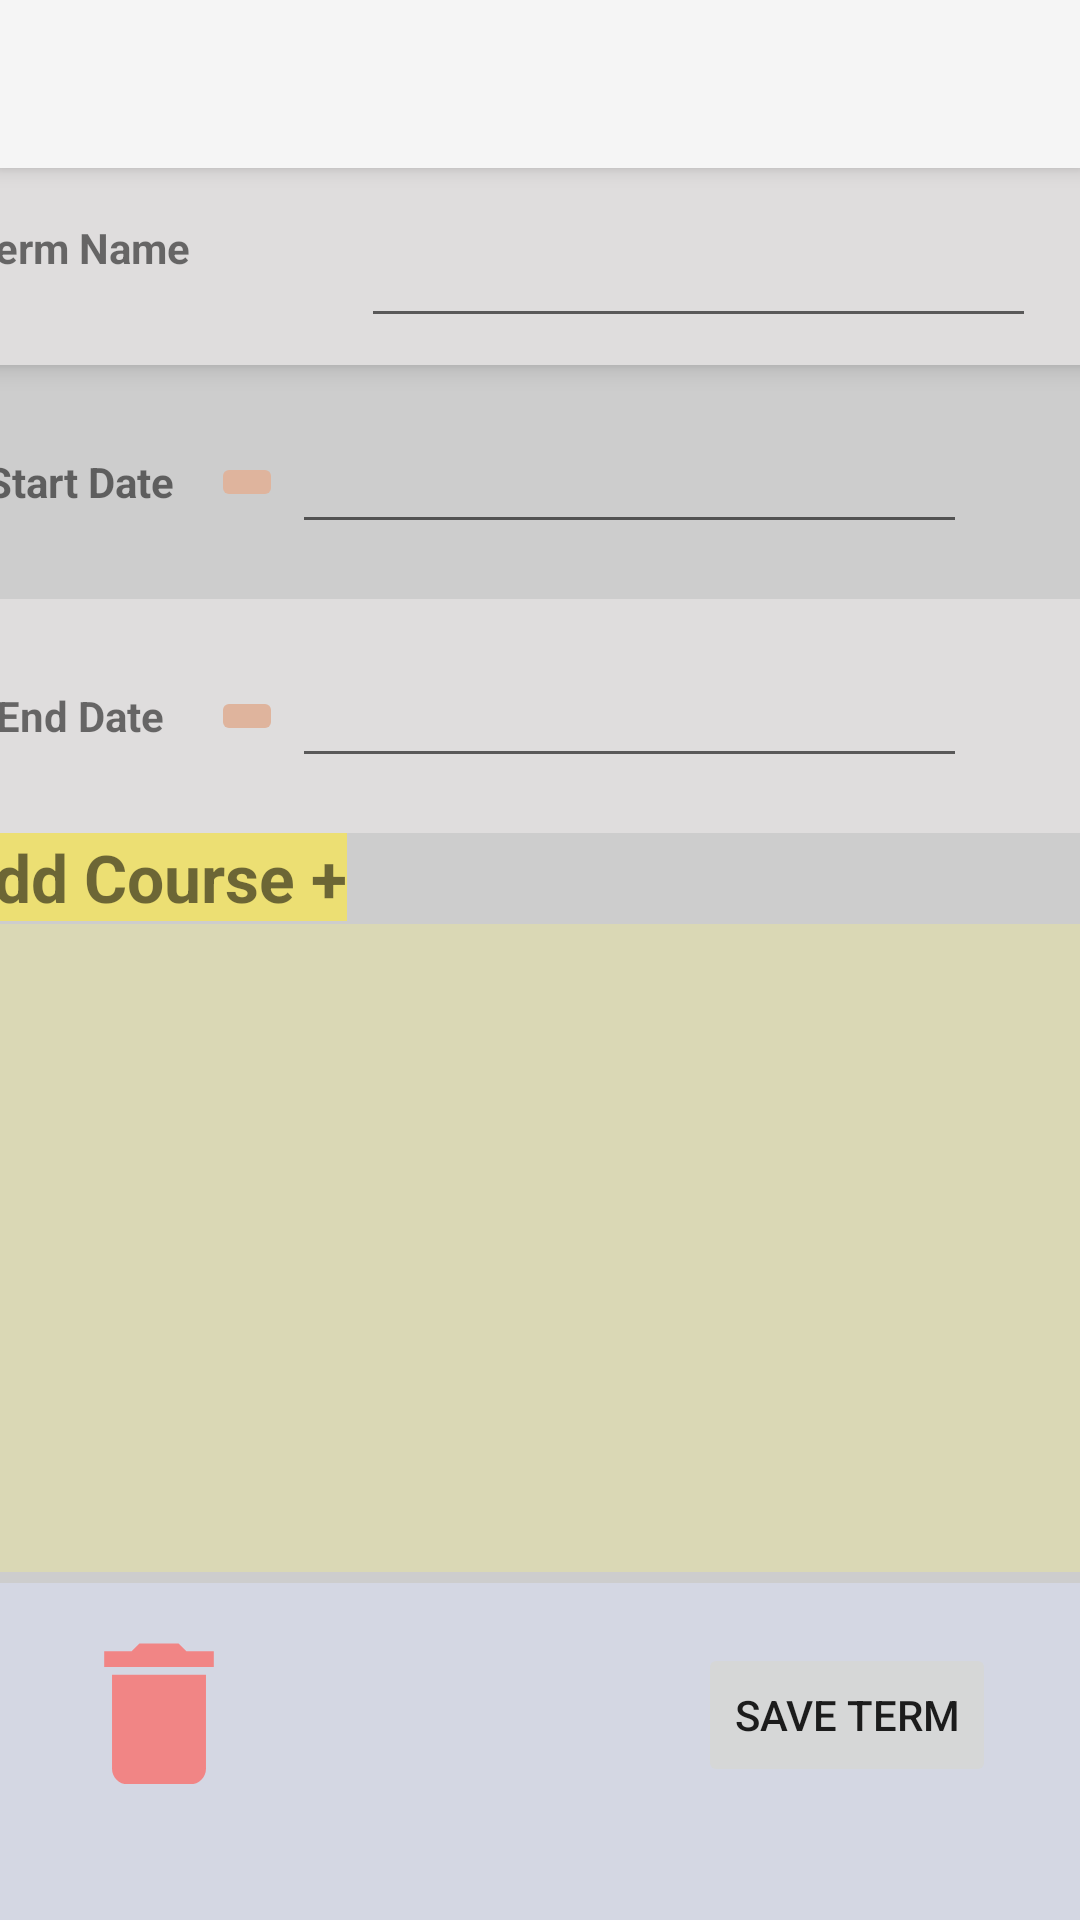

Point at icon controls on the screen. Image size 1080 × 1920, points as point (x, y).
delete: point (159, 1713)
